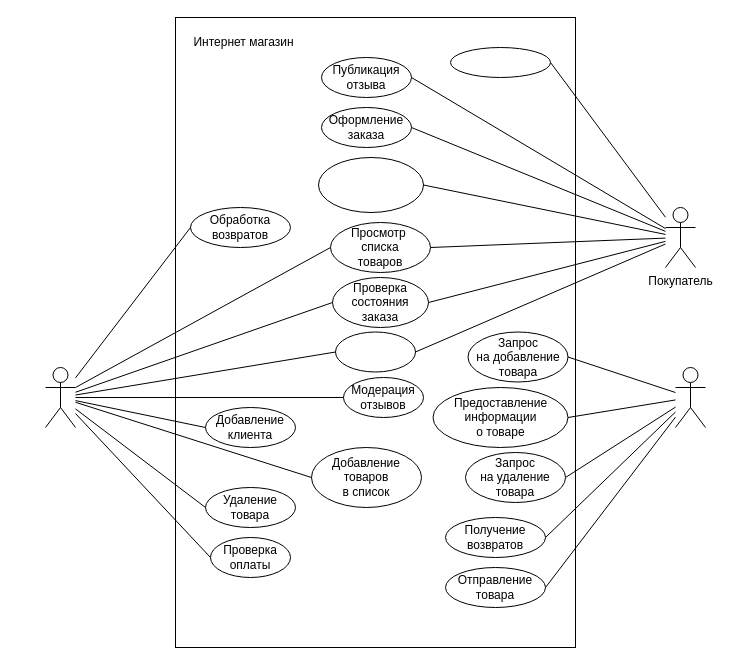
Some shapes in this 735 by 665 pixel diagram are drawn without their labels. Each missing label, with the centre of its shape:
"Администратор" belongs at [60,397].
"Возврат товара" belongs at [500,62].
"Добавление товаров в корзину" belongs at [371,184].
"Продавец" belongs at [690,397].
"Просмотр отзывов" belongs at [375,351].
